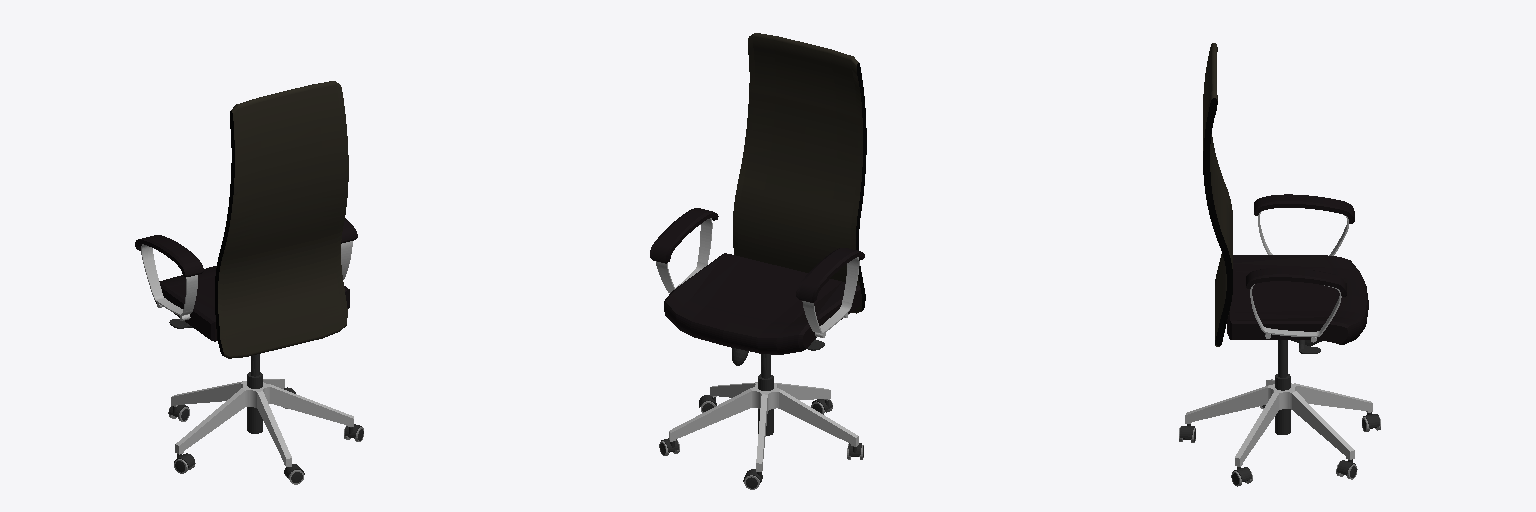
3 views of the same model, side by side, from view 1: azimuth 30°, elevation 25°; view 2: azimuth 150°, elevation 25°; view 3: azimuth 270°, elevation 25° (orthographic).
Visible parts, largest first — view 1: Mesh1 Group1 Model, Mesh3 Group3 Model, Mesh6 Group6 Model, Mesh12 Group10 Armrest2 Model, Mesh13 Group11 Armrest2 Model, Mesh2 Group2 Model; view 2: Mesh1 Group1 Model, Mesh6 Group6 Model, Mesh3 Group3 Model, Mesh9 Group9 Armrest1 Model, Mesh13 Group11 Armrest2 Model, Mesh12 Group10 Armrest2 Model, Mesh8 Group8 Armrest1 Model, Mesh2 Group2 Model; view 3: Mesh6 Group6 Model, Mesh3 Group3 Model, Mesh1 Group1 Model, Mesh13 Group11 Armrest2 Model, Mesh9 Group9 Armrest1 Model, Mesh2 Group2 Model, Mesh8 Group8 Armrest1 Model.
Boxes of the visible parts, <box> form: Mesh1 Group1 Model: <box>215,81,348,358</box>; Mesh3 Group3 Model: <box>171,379,353,466</box>; Mesh6 Group6 Model: <box>155,266,349,341</box>; Mesh12 Group10 Armrest2 Model: <box>141,244,197,315</box>; Mesh13 Group11 Armrest2 Model: <box>135,235,203,276</box>; Mesh2 Group2 Model: <box>247,354,262,433</box>; Mesh1 Group1 Model: <box>733,33,866,313</box>; Mesh6 Group6 Model: <box>664,253,860,354</box>; Mesh3 Group3 Model: <box>669,382,858,471</box>; Mesh9 Group9 Armrest1 Model: <box>650,208,718,263</box>; Mesh13 Group11 Armrest2 Model: <box>796,248,864,302</box>; Mesh12 Group10 Armrest2 Model: <box>802,257,859,333</box>; Mesh8 Group8 Armrest1 Model: <box>656,218,712,292</box>; Mesh2 Group2 Model: <box>758,354,773,435</box>; Mesh6 Group6 Model: <box>1227,255,1368,344</box>; Mesh3 Group3 Model: <box>1185,379,1372,466</box>; Mesh1 Group1 Model: <box>1203,43,1232,346</box>; Mesh13 Group11 Armrest2 Model: <box>1254,194,1354,223</box>; Mesh9 Group9 Armrest1 Model: <box>1246,268,1346,296</box>; Mesh2 Group2 Model: <box>1275,340,1290,434</box>; Mesh8 Group8 Armrest1 Model: <box>1250,284,1341,336</box>.
Bounding box in the file's own units: 0.4503 × 0.9246 × 0.4482.